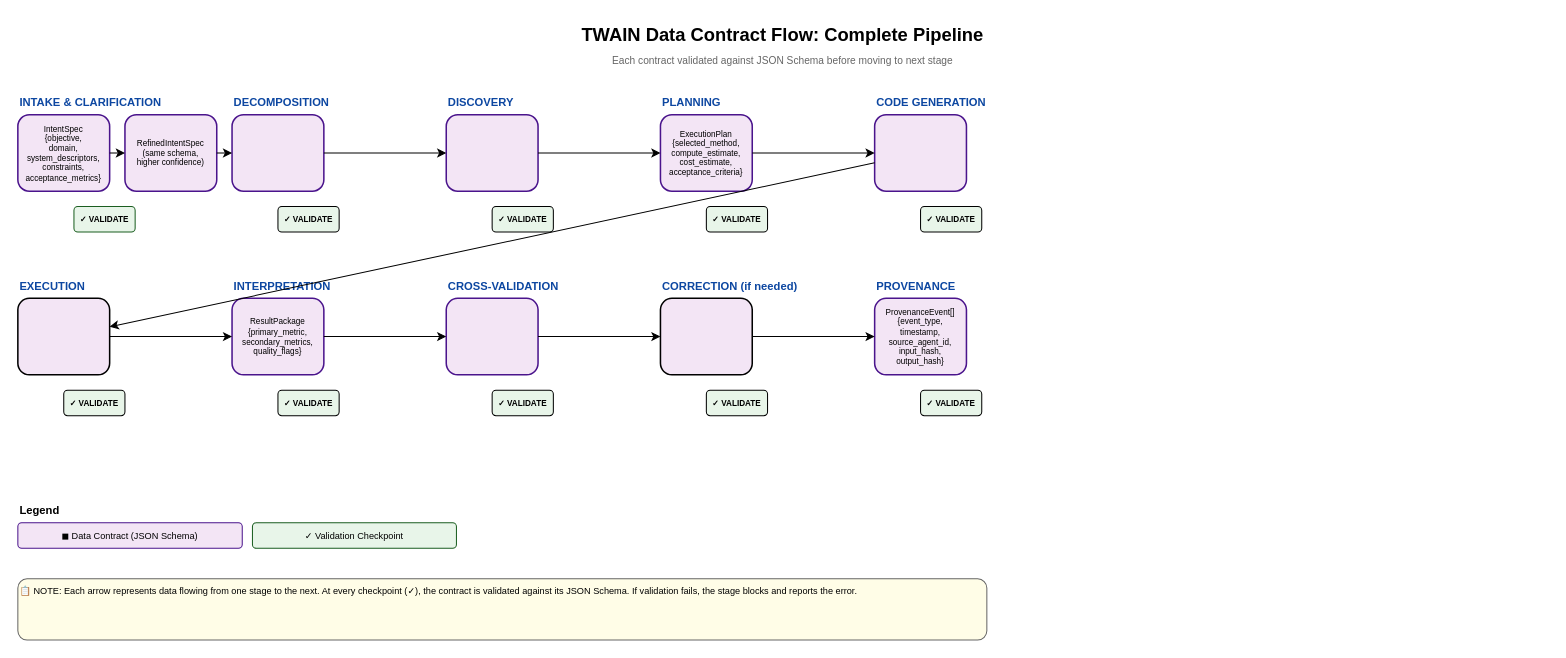
Some shapes in this 1566 by 658 pixel diagram are drawn without their labels. Here are the shapes that lost their labels. From the top down, the centre of each, then its label:
the point at 277,153: GoalGraph {goals[], edges[], metadata}
the point at 491,153: CandidateMethodSet [{method, score, trust_tier}]
the point at 920,153: RunBundle {main.py, config.yaml, requirements.txt}
the point at 63,336: ExecutionResult {exit_code, stdout, stderr, artifacts}
the point at 491,336: ValidationReport {baseline_comparison, acceptance_status, diagnoses}
the point at 706,336: CorrectionPlan {diagnosis, proposed_corrections, expected_gain, rerun_budget}
